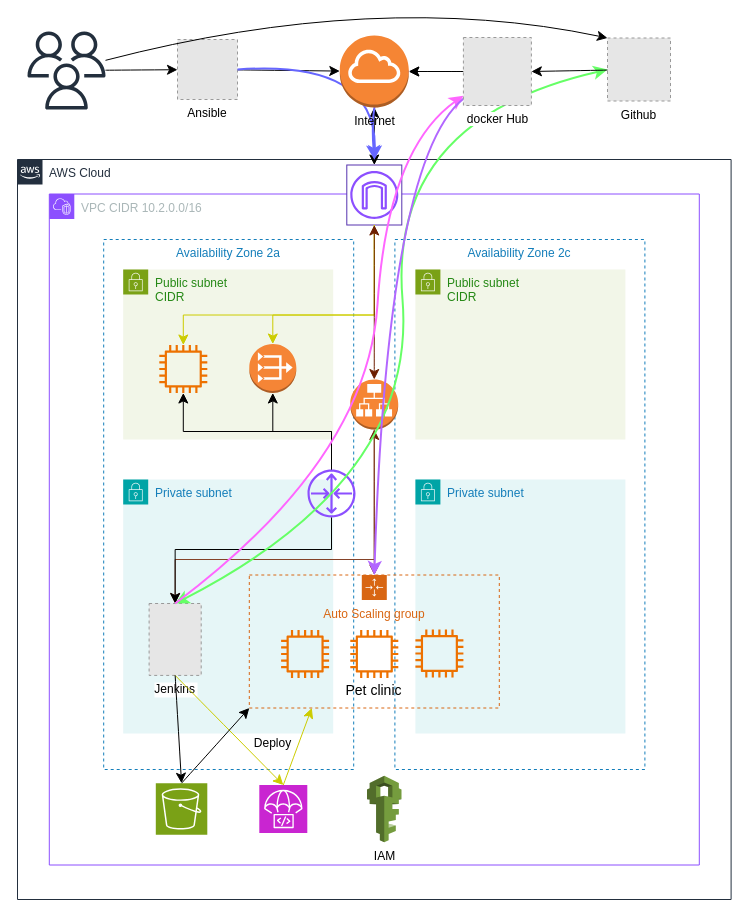
This 749x917 diagram has some shape labels left out. Grey dashed boxes stand in for pictures. The box of each missing label's shape, as (x1, y1, x2, y2) in pixels:
Application Load Balance: (349, 378, 398, 430)
Bastion: (159, 344, 207, 392)
Code Deploy: (258, 784, 307, 833)
Internet gateway: (350, 170, 398, 218)
Nat Gateway: (248, 343, 296, 393)
Router: (307, 469, 355, 517)
S3: (155, 782, 207, 835)
Users: (27, 31, 105, 109)
